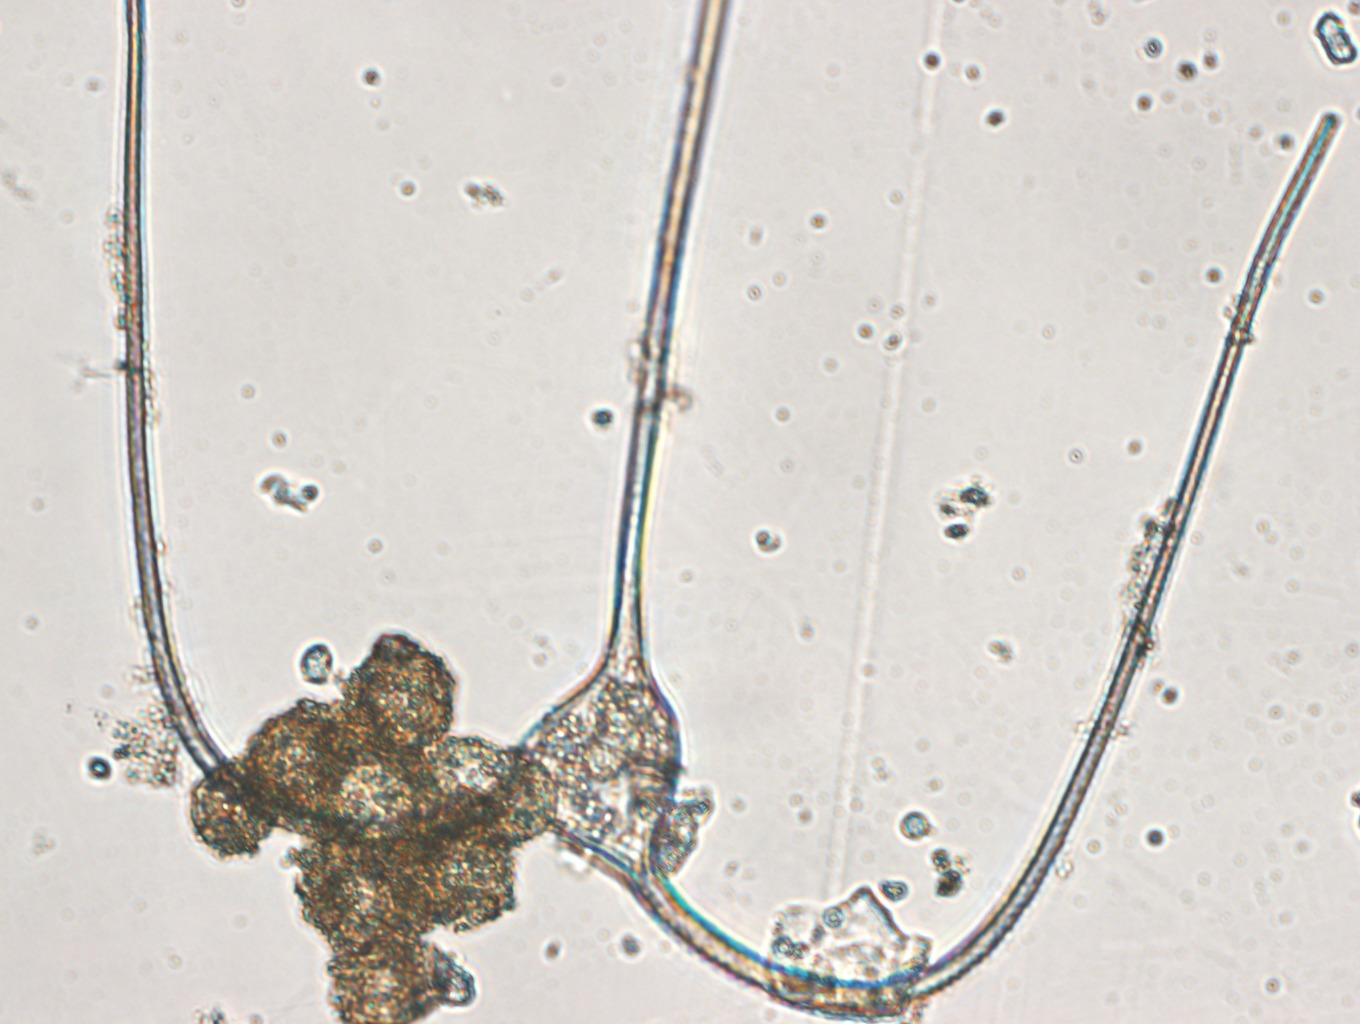ceratium trichoceros: (121, 1, 1338, 1013)
